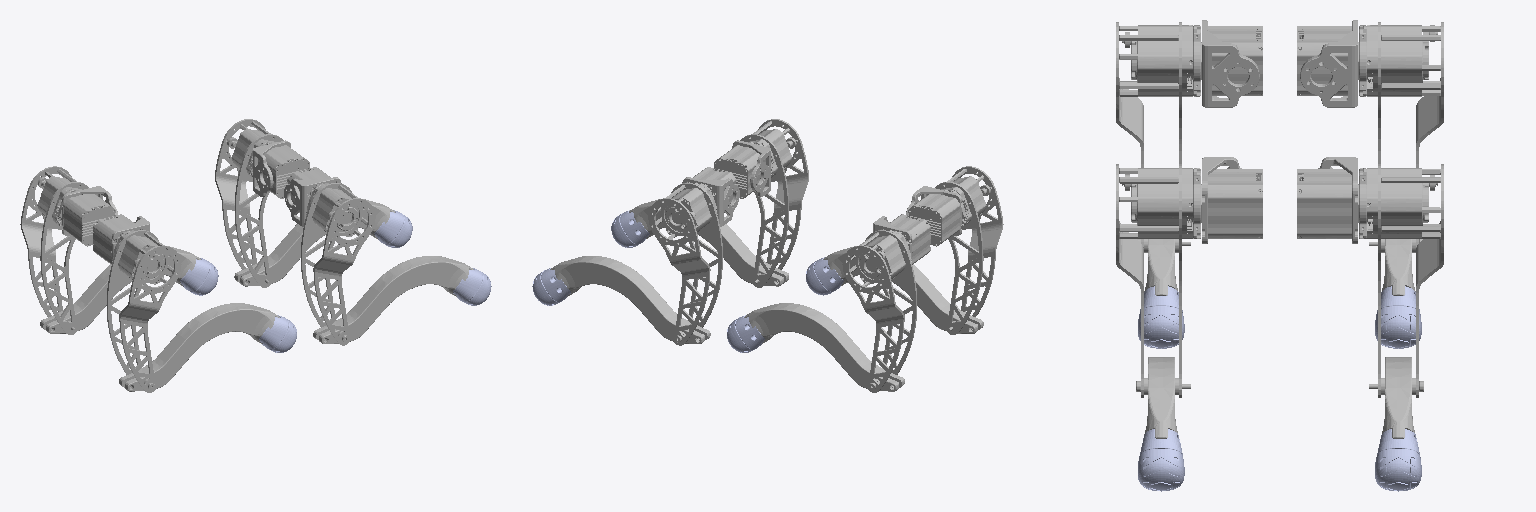
The robot description file, URDF, robot "HTDW_5036":
<?xml version="1.0" encoding="utf-8"?>
 <!-- This URDF was automatically created by SolidWorks to URDF Exporter! Originally created by Stephen Brawner (brawner@gmail.com) 
      Commit Version: 1.6.0-4-g7f85cfe  Build Version: 1.6.7995.38578
      For more information, please see http://wiki.ros.org/sw_urdf_exporter -->
 <robot name="HTDW_5036">
  <mujoco>
    <compiler meshdir="../meshes/" balanceinertia="true" discardvisual="false" />
  </mujoco>

   <link name="base_link">
     <inertial>
       <origin xyz="-0.003236 0.000885 -0.001813" rpy="0 0 0" />
       <mass value="2.659586" />
       <inertia ixx="0.003792" ixy="0.00013" ixz="0.000175" iyy="0.014468" iyz="-5e-05" izz="0.016548" />
     </inertial>
     <visual>
       <origin xyz="0 0 0" rpy="0 0 0" />
       <geometry>
        <mesh filename="../meshes/base_link.STL" />
       </geometry>
       <material name="">
         <color rgba="0.752941176470588 0.752941176470588 0.752941176470588 1" />
       </material>
     </visual>
     <collision>
       <origin xyz="0 0 0" rpy="0 0 0" />
       <geometry>
        <mesh filename="../meshes/base_link.STL" />
       </geometry>
     </collision>
   </link>
   <link name="FL_hip">
     <inertial>
       <origin xyz="-0.002051 0.009463 -0.000144" rpy="0 0 0" />
       <mass value="0.384243" />
       <inertia ixx="0.000101" ixy="2e-06" ixz="1e-06" iyy="0.000104" iyz="0.0" izz="0.00011" />
     </inertial>
     <visual>
       <origin xyz="0 0 0" rpy="0 0 0" />
       <geometry>
        <mesh filename="../meshes/FL_hip.STL" />
       </geometry>
       <material name="">
         <color rgba="0.752941176470588 0.752941176470588 0.752941176470588 1" />
       </material>
     </visual>
     <collision>
       <origin xyz="0 0 0" rpy="0 0 0" />
       <geometry>
        <mesh filename="../meshes/FL_hip.STL" />
       </geometry>
     </collision>
   </link>
   <joint name="FL_hip_joint" type="revolute">
     <origin xyz="0.14215 0.035 0" rpy="0 0 0" />
     <parent link="base_link" />
     <child link="FL_hip" />
     <axis xyz="1 0 0" />
     <limit lower="-0.53" upper="0.53" effort="21" velocity="9.5" />
   </joint>
   <link name="FL_thigh">
     <inertial>
       <origin xyz="-0.002275 0.002996 -0.013672" rpy="0 0 0" />
       <mass value="0.475" />
       <inertia ixx="0.000882" ixy="7e-06" ixz="-6.3e-05" iyy="0.000854" iyz="4e-06" izz="0.000201" />
     </inertial>
     <visual>
       <origin xyz="0 0 0" rpy="0 0 0" />
       <geometry>
        <mesh filename="../meshes/FL_thigh.STL" />
       </geometry>
       <material name="">
         <color rgba="0.752941176470588 0.752941176470588 0.752941176470588 1" />
       </material>
     </visual>
     <collision>
       <origin xyz="0 0 0" rpy="0 0 0" />
       <geometry>
        <mesh filename="../meshes/FL_thigh.STL" />
       </geometry>
     </collision>
   </link>
   <joint name="FL_thigh_joint" type="revolute">
     <origin xyz="0 0.0649 0" rpy="0 0 0" />
     <parent link="FL_hip" />
     <child link="FL_thigh" />
     <axis xyz="0 1 0" />
     <limit lower="-1.57" upper="3.49" effort="21" velocity="9.5" />
   </joint>
   <link name="FL_calf">
     <inertial>
       <origin xyz="0.019619 0.0 -0.090905" rpy="0 0 0" />
       <mass value="0.185104" />
       <inertia ixx="0.000731" ixy="0.0" ixz="8.1e-05" iyy="0.000773" iyz="0.0" izz="5.8e-05" />
     </inertial>
     <visual>
       <origin xyz="0 0 0" rpy="0 0 0" />
       <geometry>
        <mesh filename="../meshes/FL_calf.STL" />
       </geometry>
       <material name="">
         <color rgba="0.752941176470588 0.752941176470588 0.752941176470588 1" />
       </material>
     </visual>
     <collision>
       <origin xyz="0 0 0" rpy="0 0 0" />
       <geometry>
        <mesh filename="../meshes/FL_calf.STL" />
       </geometry>
     </collision>
   </link>
   <joint name="FL_calf_joint" type="revolute">
     <origin xyz="0 0 -0.17" rpy="0 0 0" />
     <parent link="FL_thigh" />
     <child link="FL_calf" />
     <axis xyz="0 1 0" />
     <limit lower="-2.65" upper="-0.84" effort="21" velocity="9.5" />
   </joint>
   <link name="FL_foot">
     <inertial>
       <origin xyz="-0.01292 -0.000247 -0.011624" rpy="0 0 0" />
       <mass value="0.055909" />
       <inertia ixx="1.3e-05" ixy="0.0" ixz="-1e-06" iyy="1.5e-05" iyz="0.0" izz="1.3e-05" />
     </inertial>
     <visual>
       <origin xyz="0 0 0" rpy="0 0 0" />
       <geometry>
        <mesh filename="../meshes/FL_foot.STL" />
       </geometry>
       <material name="">
         <color rgba="0.792156862745098 0.819607843137255 0.933333333333333 1" />
       </material>
     </visual>
     <collision>
       <origin xyz="0 0 0" rpy="0 0 0" />
       <geometry>
        <mesh filename="../meshes/FL_foot.STL" />
       </geometry>
     </collision>
   </link>
   <joint name="FL_foot" type="fixed">
     <origin xyz="-0.00023522 0 -0.18325" rpy="0 0 0" />
     <parent link="FL_calf" />
     <child link="FL_foot" />
     <axis xyz="0 0 0" />
   </joint>
   <link name="FR_hip">
     <inertial>
       <origin xyz="-0.002051 -0.009463 0.000144" rpy="0 0 0" />
       <mass value="0.384243" />
       <inertia ixx="0.000101" ixy="-2e-06" ixz="-1e-06" iyy="0.000104" iyz="0.0" izz="0.00011" />
     </inertial>
     <visual>
       <origin xyz="0 0 0" rpy="0 0 0" />
       <geometry>
        <mesh filename="../meshes/FR_hip.STL" />
       </geometry>
       <material name="">
         <color rgba="0.752941176470588 0.752941176470588 0.752941176470588 1" />
       </material>
     </visual>
     <collision>
       <origin xyz="0 0 0" rpy="0 0 0" />
       <geometry>
        <mesh filename="../meshes/FR_hip.STL" />
       </geometry>
     </collision>
   </link>
   <joint name="FR_hip_joint" type="revolute">
     <origin xyz="0.14215 -0.035 0" rpy="0 0 0" />
     <parent link="base_link" />
     <child link="FR_hip" />
     <axis xyz="1 0 0" />
     <limit lower="-0.53" upper="0.53" effort="21" velocity="9.5" />
   </joint>
   <link name="FR_thigh">
     <inertial>
       <origin xyz="-0.002505 -0.002996 -0.013547" rpy="0 0 0" />
       <mass value="0.475" />
       <inertia ixx="0.000885" ixy="-6e-06" ixz="-6e-05" iyy="0.000855" iyz="-3e-06" izz="0.0002" />
     </inertial>
     <visual>
       <origin xyz="0 0 0" rpy="0 0 0" />
       <geometry>
        <mesh filename="../meshes/FR_thigh.STL" />
       </geometry>
       <material name="">
         <color rgba="0.752941176470588 0.752941176470588 0.752941176470588 1" />
       </material>
     </visual>
     <collision>
       <origin xyz="0 0 0" rpy="0 0 0" />
       <geometry>
        <mesh filename="../meshes/FR_thigh.STL" />
       </geometry>
     </collision>
   </link>
   <joint name="FR_thigh_joint" type="revolute">
     <origin xyz="0 -0.0649 0" rpy="0 0 0" />
     <parent link="FR_hip" />
     <child link="FR_thigh" />
     <axis xyz="0 1 0" />
     <limit lower="-1.57" upper="3.49" effort="21" velocity="9.5" />
   </joint>
   <link name="FR_calf">
     <inertial>
       <origin xyz="0.019619 0.0 -0.090905" rpy="0 0 0" />
       <mass value="0.185104" />
       <inertia ixx="0.000731" ixy="0.0" ixz="8.1e-05" iyy="0.000773" iyz="0.0" izz="5.8e-05" />
     </inertial>
     <visual>
       <origin xyz="0 0 0" rpy="0 0 0" />
       <geometry>
        <mesh filename="../meshes/FR_calf.STL" />
       </geometry>
       <material name="">
         <color rgba="0.752941176470588 0.752941176470588 0.752941176470588 1" />
       </material>
     </visual>
     <collision>
       <origin xyz="0 0 0" rpy="0 0 0" />
       <geometry>
        <mesh filename="../meshes/FR_calf.STL" />
       </geometry>
     </collision>
   </link>
   <joint name="FR_calf_joint" type="revolute">
     <origin xyz="0 0 -0.17" rpy="0 0 0" />
     <parent link="FR_thigh" />
     <child link="FR_calf" />
     <axis xyz="0 1 0" />
     <limit lower="-2.65" upper="-0.84" effort="21" velocity="9.5" />
   </joint>
   <link name="FR_foot">
     <inertial>
       <origin xyz="-0.01292 -0.000247 -0.011623" rpy="0 0 0" />
       <mass value="0.055909" />
       <inertia ixx="1.3e-05" ixy="0.0" ixz="-1e-06" iyy="1.5e-05" iyz="0.0" izz="1.3e-05" />
     </inertial>
     <visual>
       <origin xyz="0 0 0" rpy="0 0 0" />
       <geometry>
        <mesh filename="../meshes/FR_foot.STL" />
       </geometry>
       <material name="">
         <color rgba="0.792156862745098 0.819607843137255 0.933333333333333 1" />
       </material>
     </visual>
     <collision>
       <origin xyz="0 0 0" rpy="0 0 0" />
       <geometry>
        <mesh filename="../meshes/FR_foot.STL" />
       </geometry>
     </collision>
   </link>
   <joint name="FR_foot" type="fixed">
     <origin xyz="-0.000235191782713057 0 -0.183253819517796" rpy="0 0 0" />
     <parent link="FR_calf" />
     <child link="FR_foot" />
     <axis xyz="0 0 0" />
   </joint>
   <link name="RL_hip">
     <inertial>
       <origin xyz="0.002051 0.009463 0.000144" rpy="0 0 0" />
       <mass value="0.384243" />
       <inertia ixx="0.000101" ixy="-2e-06" ixz="1e-06" iyy="0.000104" iyz="0.0" izz="0.00011" />
     </inertial>
     <visual>
       <origin xyz="0 0 0" rpy="0 0 0" />
       <geometry>
        <mesh filename="../meshes/RL_hip.STL" />
       </geometry>
       <material name="">
         <color rgba="0.752941176470588 0.752941176470588 0.752941176470588 1" />
       </material>
     </visual>
     <collision>
       <origin xyz="0 0 0" rpy="0 0 0" />
       <geometry>
        <mesh filename="../meshes/RL_hip.STL" />
       </geometry>
     </collision>
   </link>
   <joint name="RL_hip_joint" type="revolute">
     <origin xyz="-0.14215 0.035 0" rpy="0 0 0" />
     <parent link="base_link" />
     <child link="RL_hip" />
     <axis xyz="1 0 0" />
     <limit lower="-0.53" upper="0.53" effort="21" velocity="9.5" />
   </joint>
   <link name="RL_thigh">
     <inertial>
       <origin xyz="-0.002152 0.002996 -0.013502" rpy="0 0 0" />
       <mass value="0.475" />
       <inertia ixx="0.000887" ixy="5e-06" ixz="-6.3e-05" iyy="0.000857" iyz="2e-06" izz="0.000199" />
     </inertial>
     <visual>
       <origin xyz="0 0 0" rpy="0 0 0" />
       <geometry>
        <mesh filename="../meshes/RL_thigh.STL" />
       </geometry>
       <material name="">
         <color rgba="0.752941176470588 0.752941176470588 0.752941176470588 1" />
       </material>
     </visual>
     <collision>
       <origin xyz="0 0 0" rpy="0 0 0" />
       <geometry>
        <mesh filename="../meshes/RL_thigh.STL" />
       </geometry>
     </collision>
   </link>
   <joint name="RL_thigh_joint" type="revolute">
     <origin xyz="0 0.0649 0" rpy="0 0 0" />
     <parent link="RL_hip" />
     <child link="RL_thigh" />
     <axis xyz="0 1 0" />
     <limit lower="-1.57" upper="3.49" effort="21" velocity="9.5" />
   </joint>
   <link name="RL_calf">
     <inertial>
       <origin xyz="0.019619 0.0 -0.090905" rpy="0 0 0" />
       <mass value="0.185104" />
       <inertia ixx="0.000731" ixy="0.0" ixz="8.1e-05" iyy="0.000773" iyz="0.0" izz="5.8e-05" />
     </inertial>
     <visual>
       <origin xyz="0 0 0" rpy="0 0 0" />
       <geometry>
        <mesh filename="../meshes/RL_calf.STL" />
       </geometry>
       <material name="">
         <color rgba="0.752941176470588 0.752941176470588 0.752941176470588 1" />
       </material>
     </visual>
     <collision>
       <origin xyz="0 0 0" rpy="0 0 0" />
       <geometry>
        <mesh filename="../meshes/RL_calf.STL" />
       </geometry>
     </collision>
   </link>
   <joint name="RL_calf_joint" type="revolute">
     <origin xyz="0 0 -0.17" rpy="0 0 0" />
     <parent link="RL_thigh" />
     <child link="RL_calf" />
     <axis xyz="0 1 0" />
     <limit lower="-2.65" upper="-0.84" effort="21" velocity="9.5" />
   </joint>
   <link name="RL_foot">
     <inertial>
       <origin xyz="-0.01292 -0.000247 -0.011624" rpy="0 0 0" />
       <mass value="0.055909" />
       <inertia ixx="1.3e-05" ixy="0.0" ixz="-1e-06" iyy="1.5e-05" iyz="0.0" izz="1.3e-05" />
     </inertial>
     <visual>
       <origin xyz="0 0 0" rpy="0 0 0" />
       <geometry>
        <mesh filename="../meshes/RL_foot.STL" />
       </geometry>
       <material name="">
         <color rgba="0.792156862745098 0.819607843137255 0.933333333333333 1" />
       </material>
     </visual>
     <collision>
       <origin xyz="0 0 0" rpy="0 0 0" />
       <geometry>
        <mesh filename="../meshes/RL_foot.STL" />
       </geometry>
     </collision>
   </link>
   <joint name="RL_foot" type="fixed">
     <origin xyz="-0.000235191782713084 0 -0.183253819517796" rpy="0 0 0" />
     <parent link="RL_calf" />
     <child link="RL_foot" />
     <axis xyz="0 0 0" />
   </joint>
   <link name="RR_hip">
     <inertial>
       <origin xyz="0.002051 -0.009463 -0.000144" rpy="0 0 0" />
       <mass value="0.384243" />
       <inertia ixx="0.000101" ixy="2e-06" ixz="-1e-06" iyy="0.000104" iyz="0.0" izz="0.00011" />
     </inertial>
     <visual>
       <origin xyz="0 0 0" rpy="0 0 0" />
       <geometry>
        <mesh filename="../meshes/RR_hip.STL" />
       </geometry>
       <material name="">
         <color rgba="0.752941176470588 0.752941176470588 0.752941176470588 1" />
       </material>
     </visual>
     <collision>
       <origin xyz="0 0 0" rpy="0 0 0" />
       <geometry>
        <mesh filename="../meshes/RR_hip.STL" />
       </geometry>
     </collision>
   </link>
   <joint name="RR_hip_joint" type="revolute">
     <origin xyz="-0.14215 -0.035 0" rpy="0 0 0" />
     <parent link="base_link" />
     <child link="RR_hip" />
     <axis xyz="1 0 0" />
     <limit lower="-0.53" upper="0.53" effort="21" velocity="9.5" />
   </joint>
   <link name="RR_thigh">
     <inertial>
       <origin xyz="-0.002505 -0.002996 -0.013547" rpy="0 0 0" />
       <mass value="0.475" />
       <inertia ixx="0.000885" ixy="-6e-06" ixz="-6e-05" iyy="0.000855" iyz="-3e-06" izz="0.0002" />
     </inertial>
     <visual>
       <origin xyz="0 0 0" rpy="0 0 0" />
       <geometry>
        <mesh filename="../meshes/RR_thigh.STL" />
       </geometry>
       <material name="">
         <color rgba="0.752941176470588 0.752941176470588 0.752941176470588 1" />
       </material>
     </visual>
     <collision>
       <origin xyz="0 0 0" rpy="0 0 0" />
       <geometry>
        <mesh filename="../meshes/RR_thigh.STL" />
       </geometry>
     </collision>
   </link>
   <joint name="RR_thigh_joint" type="revolute">
     <origin xyz="0 -0.0649 0" rpy="0 0 0" />
     <parent link="RR_hip" />
     <child link="RR_thigh" />
     <axis xyz="0 1 0" />
     <limit lower="-1.57" upper="3.49" effort="21" velocity="9.5" />
   </joint>
   <link name="RR_calf">
     <inertial>
       <origin xyz="0.019619 0.0 -0.090905" rpy="0 0 0" />
       <mass value="0.185104" />
       <inertia ixx="0.000731" ixy="0.0" ixz="8.1e-05" iyy="0.000773" iyz="0.0" izz="5.8e-05" />
     </inertial>
     <visual>
       <origin xyz="0 0 0" rpy="0 0 0" />
       <geometry>
        <mesh filename="../meshes/RR_calf.STL" />
       </geometry>
       <material name="">
         <color rgba="0.752941176470588 0.752941176470588 0.752941176470588 1" />
       </material>
     </visual>
     <collision>
       <origin xyz="0 0 0" rpy="0 0 0" />
       <geometry>
        <mesh filename="../meshes/RR_calf.STL" />
       </geometry>
     </collision>
   </link>
   <joint name="RR_calf_joint" type="revolute">
     <origin xyz="0 0 -0.17" rpy="0 0 0" />
     <parent link="RR_thigh" />
     <child link="RR_calf" />
     <axis xyz="0 1 0" />
     <limit lower="-2.65" upper="-0.84" effort="21" velocity="9.5" />
   </joint>
   <link name="RR_foot">
     <inertial>
       <origin xyz="-0.01292 -0.000247 -0.011623" rpy="0 0 0" />
       <mass value="0.055909" />
       <inertia ixx="1.3e-05" ixy="0.0" ixz="-1e-06" iyy="1.5e-05" iyz="0.0" izz="1.3e-05" />
     </inertial>
     <visual>
       <origin xyz="0 0 0" rpy="0 0 0" />
       <geometry>
        <mesh filename="../meshes/RR_foot.STL" />
       </geometry>
       <material name="">
         <color rgba="0.792156862745098 0.819607843137255 0.933333333333333 1" />
       </material>
     </visual>
     <collision>
       <origin xyz="0 0 0" rpy="0 0 0" />
       <geometry>
        <mesh filename="../meshes/RR_foot.STL" />
       </geometry>
     </collision>
   </link>
   <joint name="RR_foot" type="fixed">
     <origin xyz="-0.000235191782713084 0 -0.183253819517796" rpy="0 0 0" />
     <parent link="RR_calf" />
     <child link="RR_foot" />
     <axis xyz="0 0 0" />
   </joint>
 </robot>

--- What the picture shows (computed from the rendered views, not written in the file) ---
Views: 3 orthographic renders of the robot side by side, from view 1: azimuth 30°, elevation 25°; view 2: azimuth 150°, elevation 25°; view 3: azimuth 270°, elevation 25°.
Model HTDW_5036 with 17 links and 16 joints (12 revolute, 4 fixed), rooted at base_link, posed joints at zero except 4 at the middle of their limits (FL_calf_joint = -1.75, FR_calf_joint = -1.75, RL_calf_joint = -1.75, RR_calf_joint = -1.75).
Links seen in each view (by area): view 1: FR_thigh, RR_thigh, RL_thigh, FL_thigh, RR_calf, FR_calf, RL_calf, FL_calf, FL_hip, RL_hip, FR_hip, RR_hip (+4 smaller); view 2: RL_thigh, FL_thigh, RR_thigh, FR_thigh, RL_calf, FL_calf, RR_calf, FR_calf, FR_hip, RR_hip, FL_hip, RL_hip (+4 smaller); view 3: FL_thigh, FR_thigh, RL_thigh, RR_thigh, RL_hip, RR_hip, FL_hip, FR_hip, FL_foot, FR_foot, FL_calf, FR_calf (+4 smaller).
Link boxes in pixels (x1=…): FR_thigh: x1=301, y1=183, x2=375, y2=345; RR_thigh: x1=107, y1=230, x2=181, y2=392; RL_thigh: x1=20, y1=166, x2=88, y2=334; FL_thigh: x1=215, y1=119, x2=283, y2=287; RR_calf: x1=119, y1=303, x2=279, y2=391; FR_calf: x1=313, y1=256, x2=473, y2=343; RL_calf: x1=40, y1=246, x2=200, y2=333; FL_calf: x1=234, y1=199, x2=394, y2=286; FL_hip: x1=253, y1=140, x2=309, y2=198; RL_hip: x1=62, y1=186, x2=117, y2=246; FR_hip: x1=284, y1=167, x2=341, y2=226; RR_hip: x1=93, y1=214, x2=149, y2=264; RL_thigh: x1=842, y1=230, x2=916, y2=392; FL_thigh: x1=648, y1=182, x2=722, y2=345; RR_thigh: x1=935, y1=166, x2=1003, y2=334; FR_thigh: x1=740, y1=119, x2=808, y2=287; RL_calf: x1=744, y1=303, x2=904, y2=391; FL_calf: x1=550, y1=256, x2=710, y2=343; RR_calf: x1=823, y1=247, x2=983, y2=333; FR_calf: x1=629, y1=199, x2=788, y2=286; FR_hip: x1=714, y1=140, x2=770, y2=198; RR_hip: x1=906, y1=186, x2=961, y2=246; FL_hip: x1=682, y1=167, x2=739, y2=226; RL_hip: x1=873, y1=214, x2=930, y2=264; FL_thigh: x1=1359, y1=164, x2=1443, y2=397; FR_thigh: x1=1116, y1=164, x2=1200, y2=397; RL_thigh: x1=1359, y1=22, x2=1443, y2=247; RR_thigh: x1=1116, y1=22, x2=1200, y2=247; RL_hip: x1=1297, y1=20, x2=1358, y2=107; RR_hip: x1=1201, y1=20, x2=1262, y2=107; FL_hip: x1=1297, y1=157, x2=1358, y2=243; FR_hip: x1=1201, y1=157, x2=1262, y2=243; FL_foot: x1=1375, y1=429, x2=1421, y2=491; FR_foot: x1=1138, y1=429, x2=1184, y2=491; FL_calf: x1=1381, y1=357, x2=1415, y2=438; FR_calf: x1=1144, y1=357, x2=1178, y2=438.
Size in the robot's own frame: 0.549 by 0.2768 by 0.2133 metres.
Meshes: 17 distinct files referenced, 16 mesh visuals loaded (16 binary STL); not drawn: 1 (reference not matched to a file when rendering).
